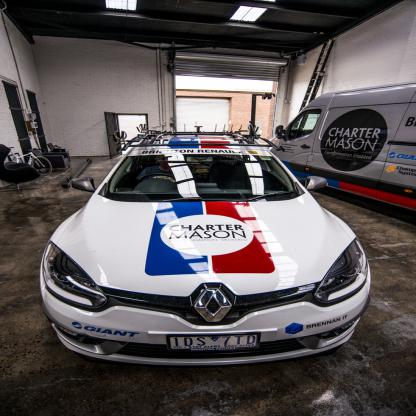Car: (38, 121, 371, 367)
